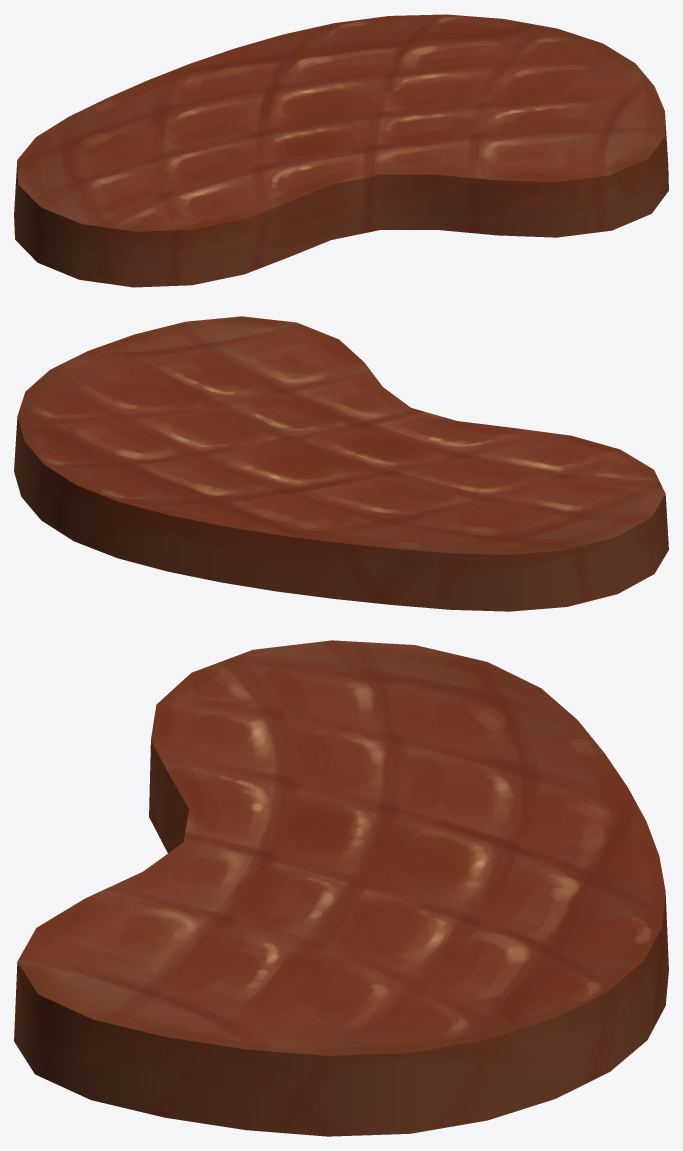
Rendered from meatcooked.fbx.
3 renders of one model, top to bottom at view 1: azimuth 30°, elevation 25°; view 2: azimuth 150°, elevation 25°; view 3: azimuth 270°, elevation 25°, orthographic. The views are drawn at different scales.
Visible parts, largest first — view 1: meatcooked; view 2: meatcooked; view 3: meatcooked.
Part boxes in pixels (<box>): meatcooked: <box>14,14,668,287</box>; meatcooked: <box>14,316,668,611</box>; meatcooked: <box>14,640,668,1136</box>.
Size of the model in its own units: 28.94 by 2.52 by 19.08.
